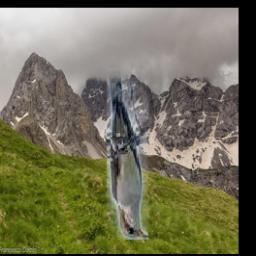Cuckoo: (108, 49, 149, 240)
